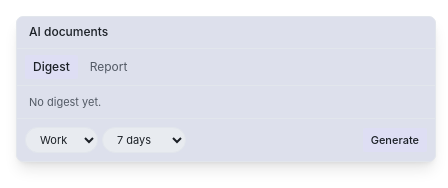
Test: the account switch race › drops the old account answer when the account switches mid-generate
Click the button "Generate".
click(395, 140)  # box x1=363 y1=128 x2=427 y2=152
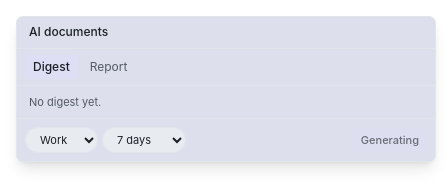
Select "Home" in the dropdown named "Document account" at coordinates (62, 140), box x1=25 y1=127 x2=98 y2=153
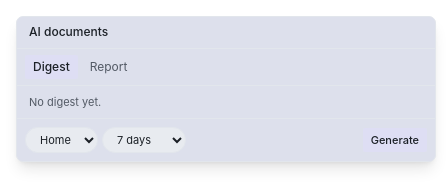
expect the text "No digest yet." is shown: met, box x1=29 y1=94 x2=101 y2=108
expect the button "Generate" is enabled: met, box x1=363 y1=128 x2=427 y2=152
